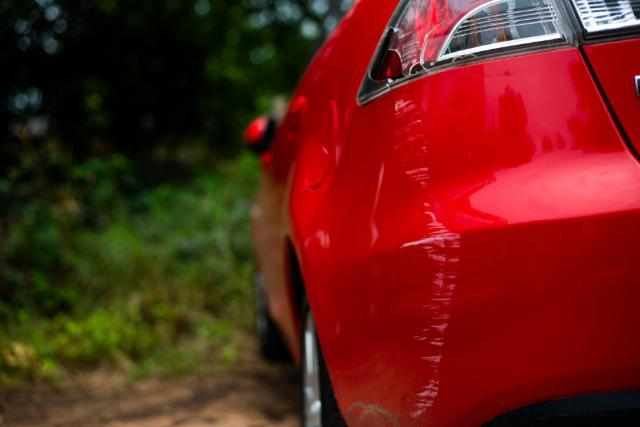lamp broken: (358, 0, 581, 103)
scratch: (390, 96, 465, 423)
